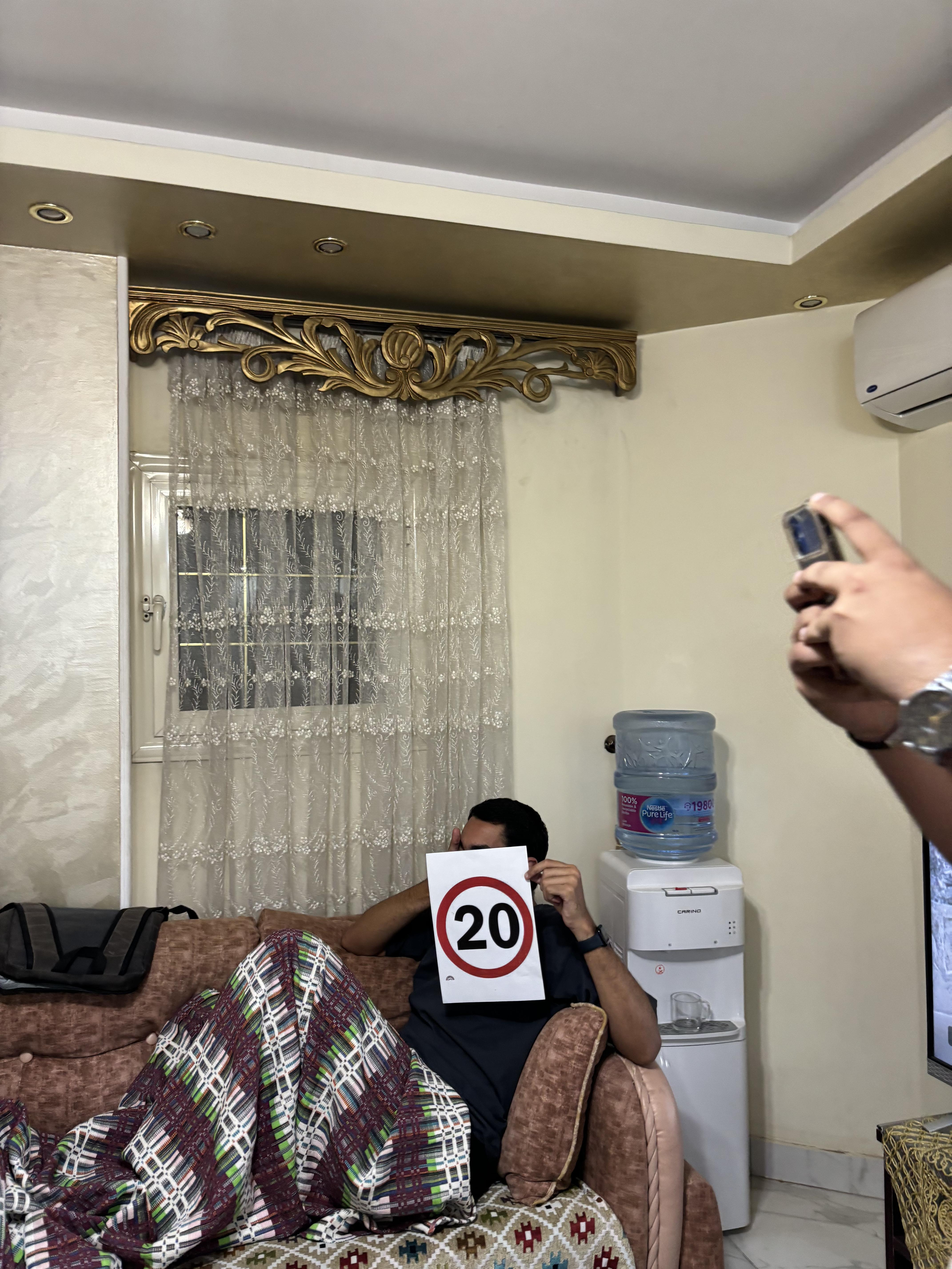20-Speed: (434, 869, 532, 979)
